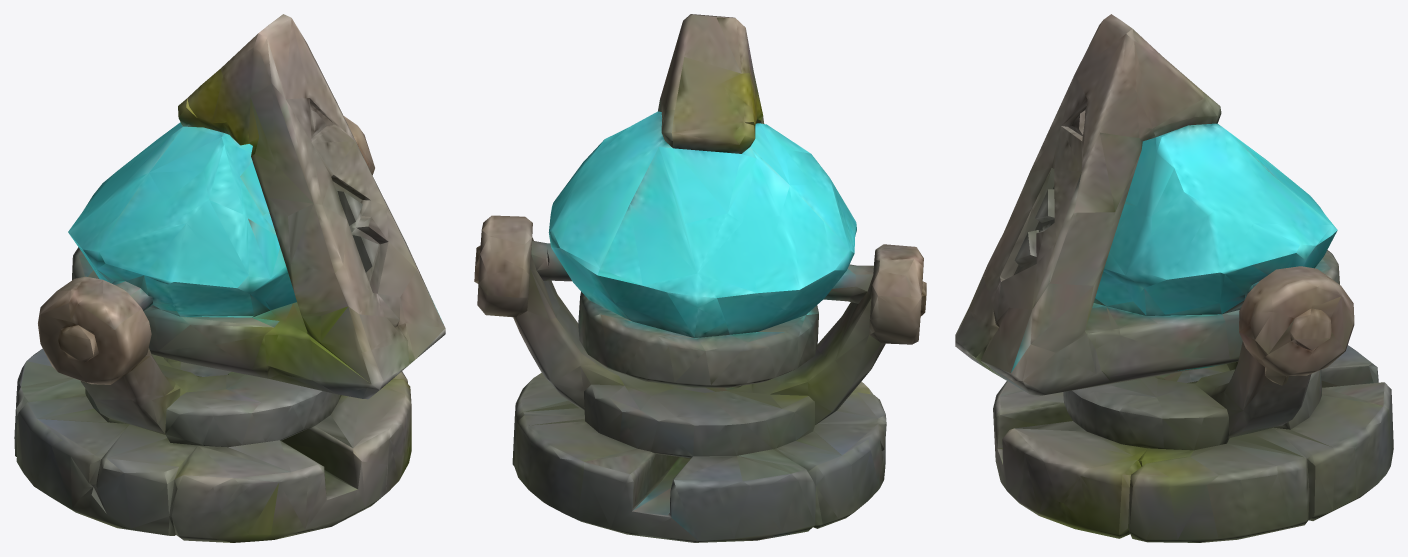
The model's file is prisma_orientable_2000.glb.
The picture shows the model from 3 angles, left to right: view 1: azimuth 30°, elevation 25°; view 2: azimuth 150°, elevation 25°; view 3: azimuth 270°, elevation 25°; orthographic projection. The views are drawn at different scales.
Visible parts, largest first — view 1: prisma_orientable_malla; view 2: prisma_orientable_malla; view 3: prisma_orientable_malla.
Boxes of the visible parts, x1,y1,x2,y2 form: prisma_orientable_malla: (14,14,445,542); prisma_orientable_malla: (474,14,926,542); prisma_orientable_malla: (955,14,1393,542).
Bounding box in the file's own units: 0.2995 × 0.3303 × 0.2845.
1 material, 1 textured.
